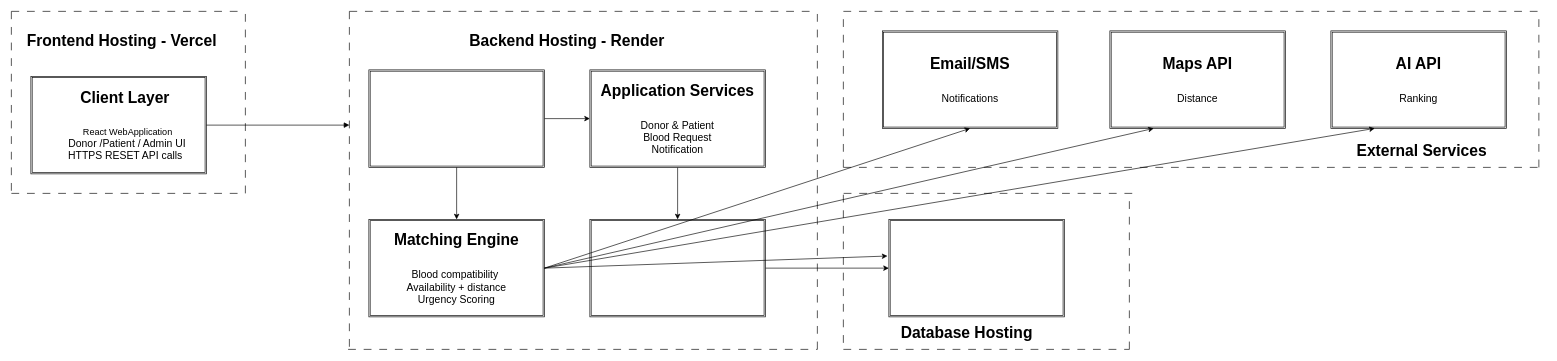
Some shapes in this 1557 by 361 pixel diagram are drawn without their labels. Here are the shapes that lost their labels. From the top down, the centre of each, then its label:
pixel 456 118: API Layer Spring Boot REST Controllers JWT / RBAC
pixel 677 268: Security & Audit Password Hashing Access Control Audit logs
pixel 976 268: MySQL Users Donors Requests Matches Hospitals Audit Logs
